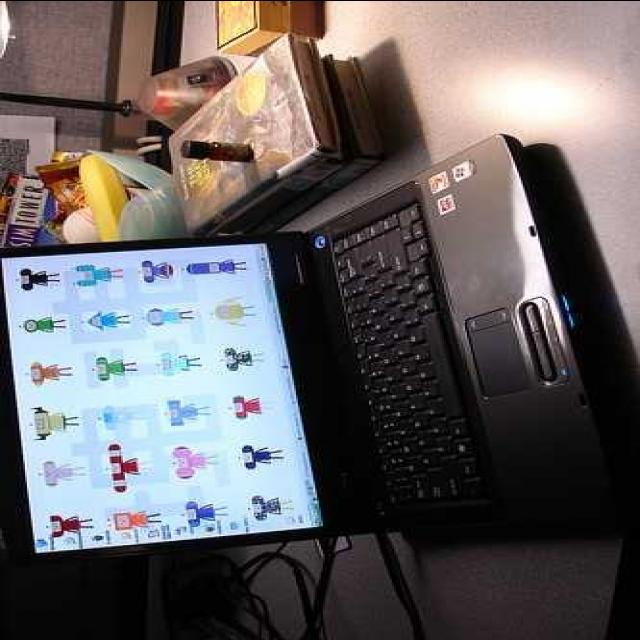laptop: (1, 133, 567, 547)
